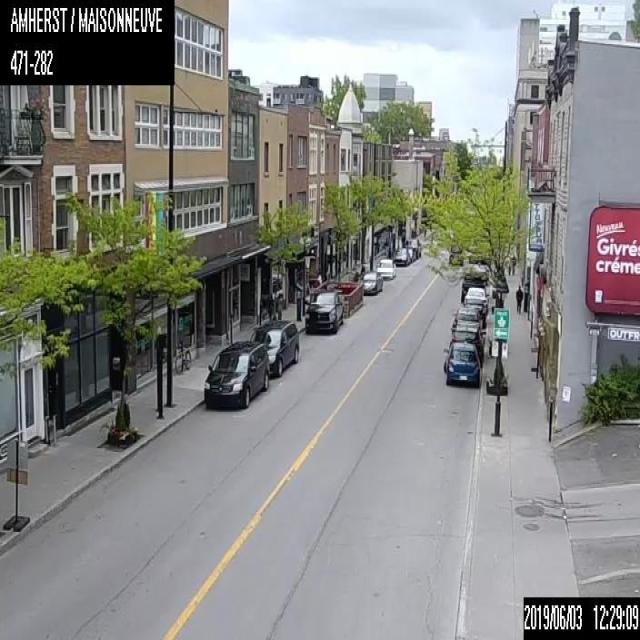pedestrian: (514, 283, 522, 313), (276, 293, 284, 319), (267, 292, 274, 318), (510, 254, 516, 274)
vehicle: (203, 340, 269, 407), (248, 319, 299, 375), (443, 341, 481, 387), (304, 291, 344, 333), (449, 326, 484, 362), (450, 307, 482, 333), (459, 274, 486, 301), (463, 286, 489, 309), (360, 270, 382, 294), (452, 319, 486, 333), (464, 301, 486, 322), (376, 258, 395, 278), (404, 237, 420, 258), (392, 247, 410, 265), (405, 247, 415, 261)
